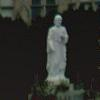Statue: (37, 10, 80, 89)
